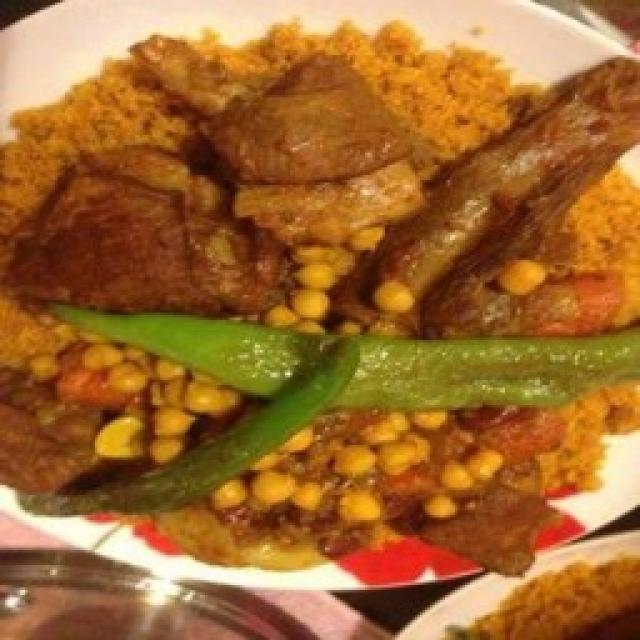Couscous: (0, 0, 640, 590)
